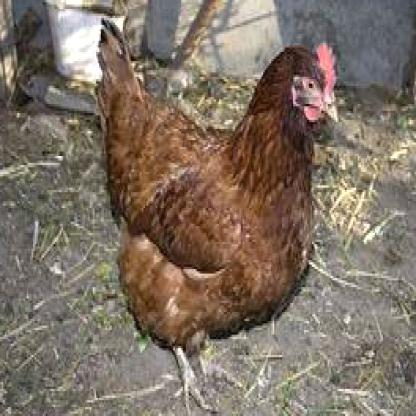chicken: (93, 16, 339, 414)
